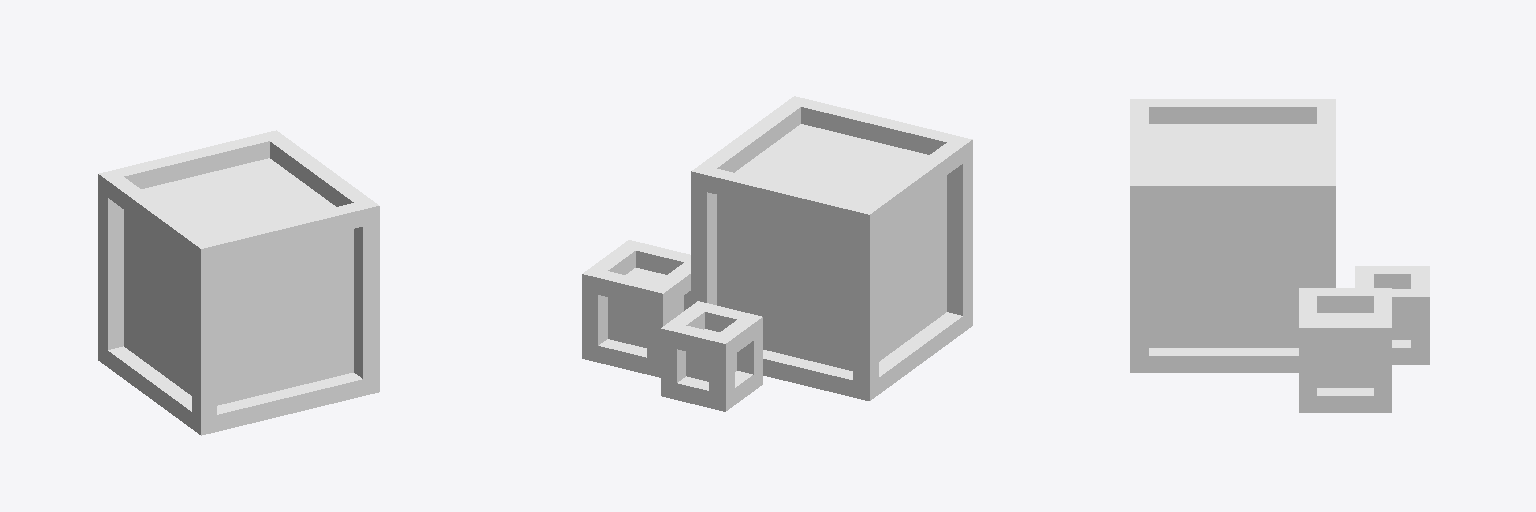
Rendered from deco_3.obj.
3 views of the same model, side by side, from view 1: azimuth 30°, elevation 25°; view 2: azimuth 150°, elevation 25°; view 3: azimuth 270°, elevation 25° (orthographic).
Bounding box in the file's own units: 16 × 11 × 16.